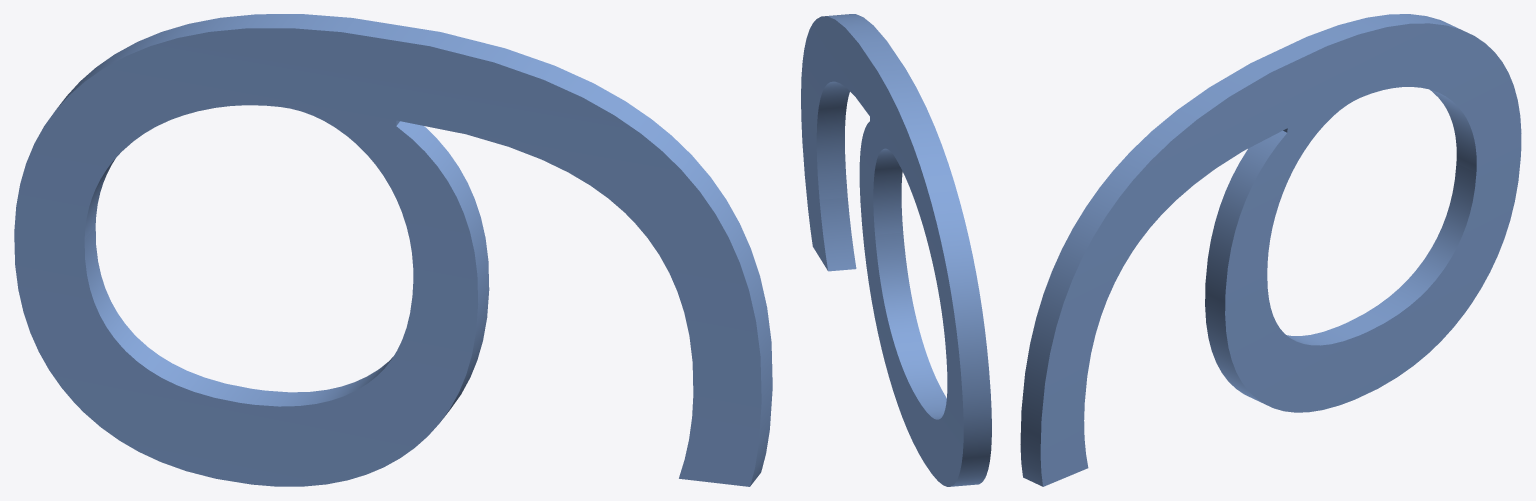
File: New_Number_6.gltf
3 views of the same model, side by side, from view 1: azimuth 30°, elevation 25°; view 2: azimuth 150°, elevation 25°; view 3: azimuth 270°, elevation 25° (orthographic). The views are drawn at different scales.
Visible parts, largest first — view 1: Part 186; view 2: Part 186; view 3: Part 186.
Part boxes in pixels (bbox=[...]): Part 186: bbox=[14, 14, 772, 486]; Part 186: bbox=[801, 14, 991, 486]; Part 186: bbox=[1020, 14, 1521, 486].
Size of the model in its own units: 0.00414 by 0.00359 by 0.00424.
